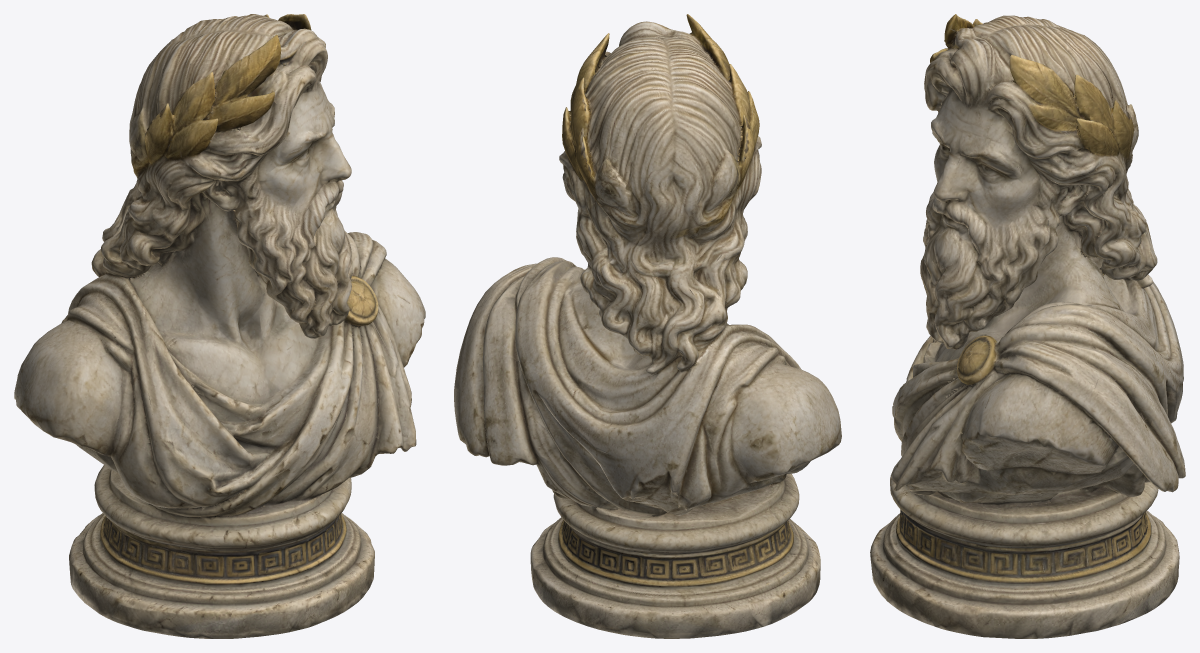
File: WF_GreekRelics_ZeusBust.fbx
3 views of the same model, side by side, from view 1: azimuth 30°, elevation 25°; view 2: azimuth 150°, elevation 25°; view 3: azimuth 270°, elevation 25° (orthographic). The views are drawn at different scales.
Parts seen in each view (by area): view 1: Mesh1.0; view 2: Mesh1.0; view 3: Mesh1.0.
Boxes of the visible parts, x1,y1,x2,y2 form: Mesh1.0: (14,14,425,638); Mesh1.0: (454,14,841,638); Mesh1.0: (870,14,1185,638).
Bounding box in the file's own units: 133 × 191 × 95.83.
1 material, 1 textured.
